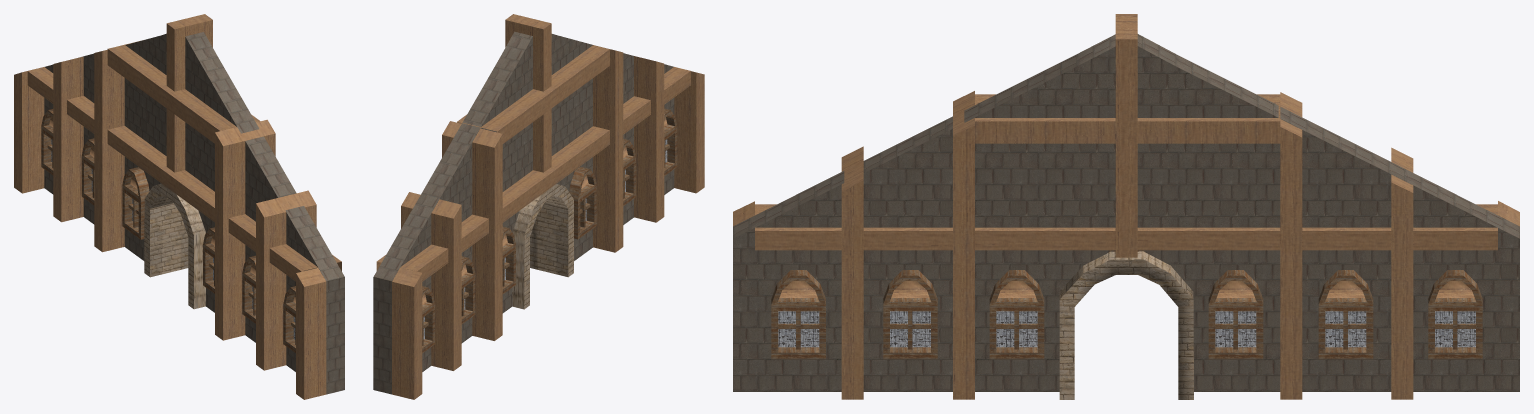
Rendered from Blacksmith_frontwall.fbx.
The picture shows the model from 3 angles, left to right: view 1: azimuth 30°, elevation 25°; view 2: azimuth 150°, elevation 25°; view 3: azimuth 270°, elevation 25°; orthographic projection. The views are drawn at different scales.
Parts seen in each view (by area): view 1: Blacksmith_frontwall; view 2: Blacksmith_frontwall; view 3: Blacksmith_frontwall.
Boxes of the visible parts, x1=… form: Blacksmith_frontwall: x1=14, y1=14, x2=344, y2=399; Blacksmith_frontwall: x1=373, y1=14, x2=704, y2=399; Blacksmith_frontwall: x1=733, y1=14, x2=1519, y2=399.
Bounding box in the file's own units: 10.81 × 51.61 × 103.
